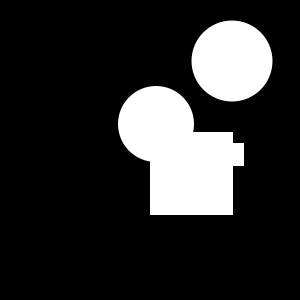circle: (150, 132, 233, 215), (221, 143, 244, 166), (191, 139, 207, 155)
rectangle: (192, 20, 272, 102), (118, 86, 194, 162)
